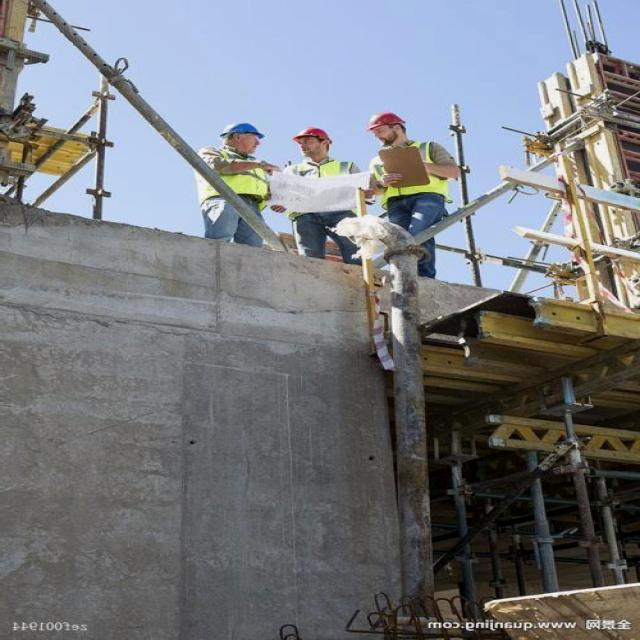face_nomask: (297, 137, 330, 159), (234, 132, 265, 150), (372, 126, 404, 142)
head_helmet: (360, 111, 407, 130), (216, 120, 268, 136), (292, 125, 333, 140)
person: (360, 111, 462, 274), (280, 124, 362, 260), (189, 118, 267, 242)
vest: (280, 163, 356, 220), (376, 140, 439, 200), (204, 151, 266, 199)
